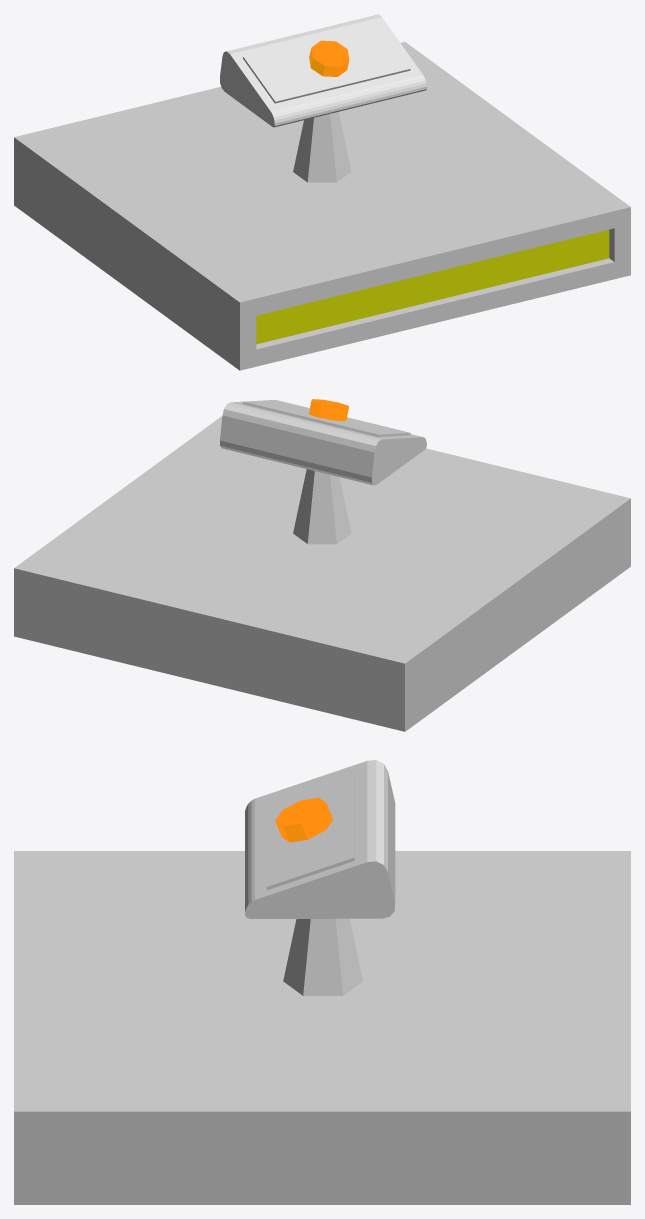
File: Elevator with Button Base.fbx
3 views of the same model, one above another, from view 1: azimuth 30°, elevation 25°; view 2: azimuth 150°, elevation 25°; view 3: azimuth 270°, elevation 25° (orthographic). The views are drawn at different scales.
Parts seen in each view (by area): view 1: Elevator Base, Cube, Base, Button; view 2: Elevator Base, Cube, Base, Button; view 3: Elevator Base, Cube, Base, Button.
Part boxes in pixels (<box>): Elevator Base: <box>14,42,630,370</box>; Cube: <box>220,14,426,127</box>; Base: <box>293,112,351,182</box>; Button: <box>309,40,349,76</box>; Elevator Base: <box>14,416,630,731</box>; Cube: <box>220,399,426,485</box>; Base: <box>293,469,351,544</box>; Button: <box>309,399,348,421</box>; Elevator Base: <box>14,851,630,1204</box>; Cube: <box>245,760,395,918</box>; Base: <box>283,918,362,995</box>; Button: <box>275,797,333,842</box>.
Bounding box in the file's own units: 300 × 146 × 300.
